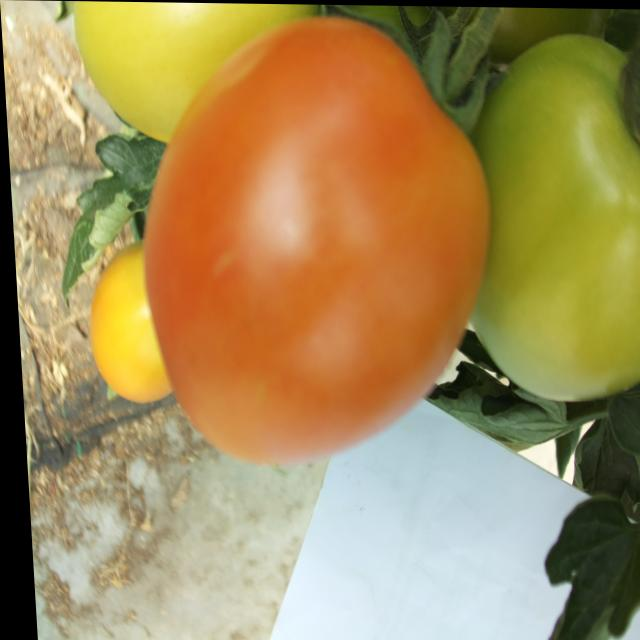sari: (127, 22, 490, 452)
yesil: (491, 46, 640, 382)
